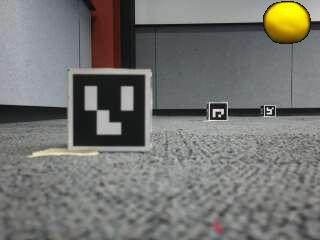lemon: (265, 2, 310, 43)
